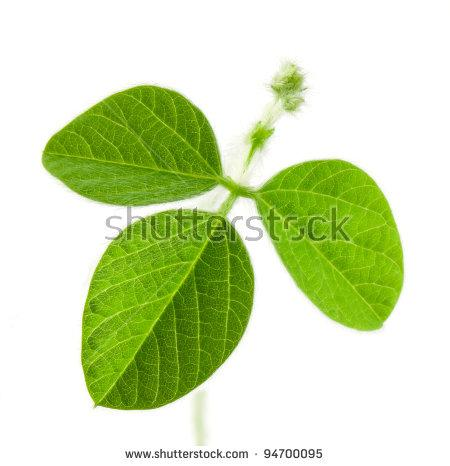Soyabean leaf: (75, 202, 258, 420), (252, 156, 407, 337), (34, 82, 225, 216)
